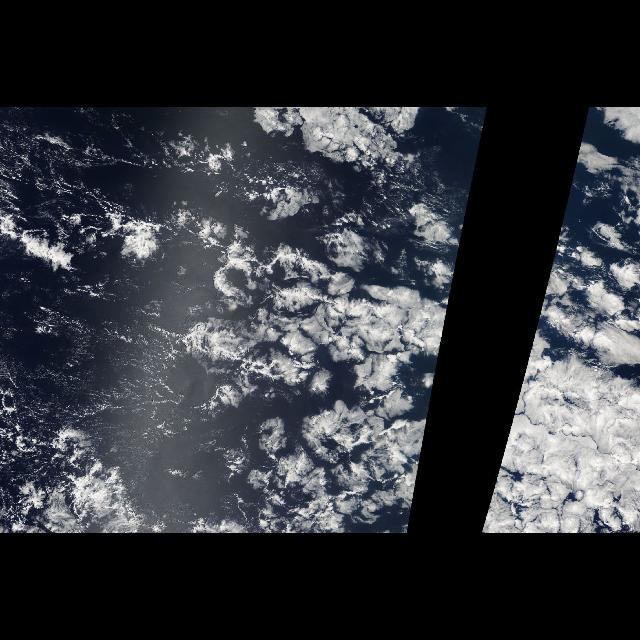Flower: (183, 168, 472, 534), (479, 478, 496, 534)
Gravel: (3, 160, 333, 306), (2, 386, 152, 530)
Sugar: (1, 260, 188, 440)
